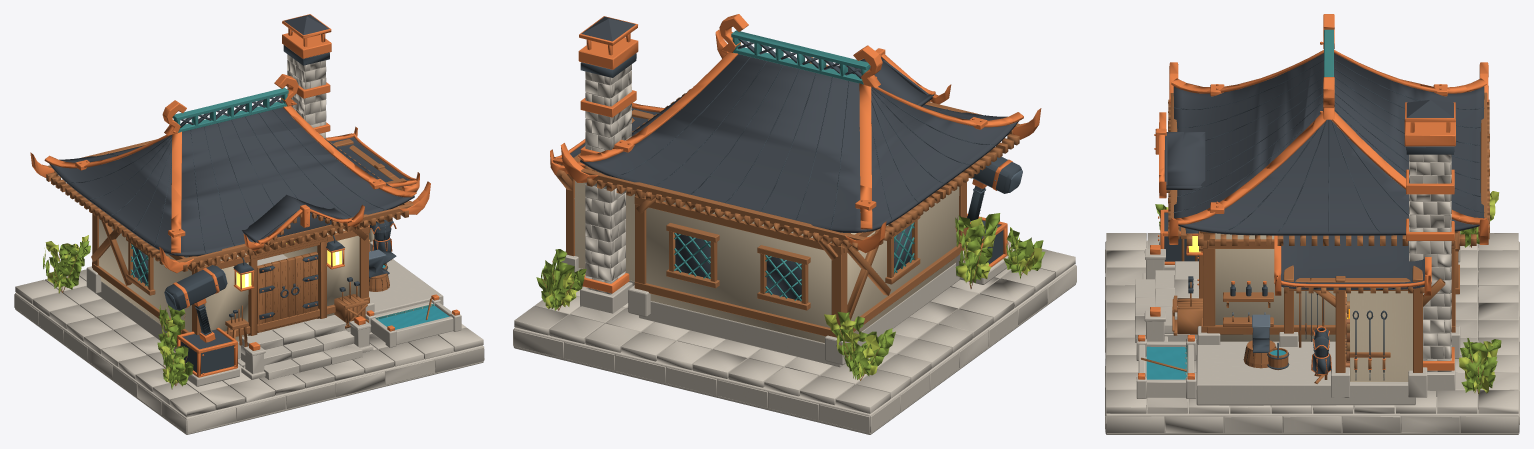
File: forge-lod1-1735521ee72b.glb
3 renders of one model, left to right at view 1: azimuth 30°, elevation 25°; view 2: azimuth 150°, elevation 25°; view 3: azimuth 270°, elevation 25°, orthographic. The views are drawn at different scales.
Parts seen in each view (by area): view 1: RFbatch_65.027, RFbatch_68.027, RFbatch_42.027, RFbatch_47.027, RFbatch_44.027, RFbatch_2.027, RFbatch_76.027, RFbatch_28.027, RFbatch_77.027, RFbatch_51.027; view 2: RFbatch_65.027, RFbatch_68.027, RFbatch_42.027, RFbatch_2.027, RFbatch_47.027, RFbatch_44.027, RFbatch_76.027, RFbatch_28.027, RFbatch_77.027; view 3: RFbatch_65.027, RFbatch_68.027, RFbatch_42.027, RFbatch_47.027, RFbatch_2.027, RFbatch_44.027, RFbatch_76.027, RFbatch_51.027, RFbatch_77.027, RFbatch_28.027.
Boxes of the visible parts, x1,y1,x2,y2 form: RFbatch_65.027: (14,54,484,434); RFbatch_68.027: (49,14,415,256); RFbatch_42.027: (45,136,431,385); RFbatch_47.027: (30,14,459,377); RFbatch_44.027: (68,45,396,373); RFbatch_2.027: (99,219,374,341); RFbatch_76.027: (43,241,193,389); RFbatch_28.027: (131,87,434,319); RFbatch_77.027: (44,235,184,385); RFbatch_51.027: (377,265,449,329); RFbatch_65.027: (513,64,1076,434); RFbatch_68.027: (555,16,1018,232); RFbatch_42.027: (542,86,1034,380); RFbatch_2.027: (574,181,959,343); RFbatch_47.027: (550,14,1041,293); RFbatch_44.027: (580,39,1021,300); RFbatch_76.027: (536,213,1045,379); RFbatch_28.027: (674,30,914,301); RFbatch_77.027: (545,217,1041,380); RFbatch_65.027: (1105,154,1519,434); RFbatch_68.027: (1164,53,1484,289); RFbatch_42.027: (1141,92,1489,393); RFbatch_47.027: (1138,14,1488,379); RFbatch_2.027: (1215,233,1412,381); RFbatch_44.027: (1164,59,1484,380); RFbatch_76.027: (1155,204,1501,394); RFbatch_51.027: (1146,346,1285,379); RFbatch_77.027: (1166,191,1499,393); RFbatch_28.027: (1186,29,1333,376).
Size of the model in its own units: 10.23 by 8.29 by 10.03.
Materials: 21 (12 with a texture image).
